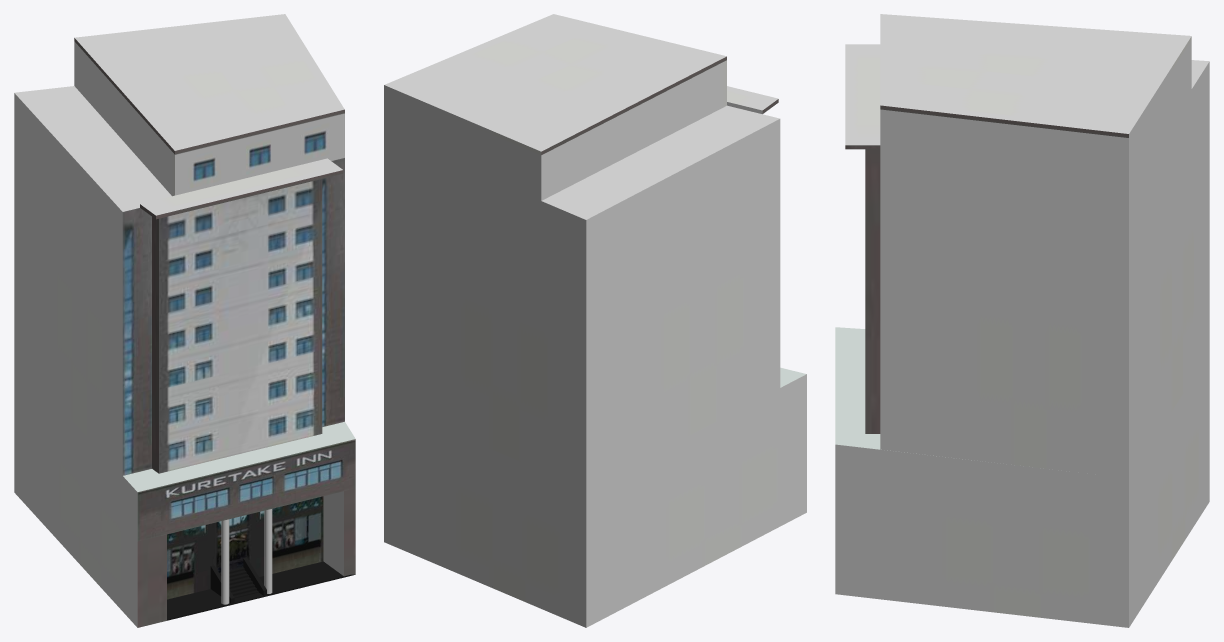
3 views of the same model, side by side, from view 1: azimuth 30°, elevation 25°; view 2: azimuth 150°, elevation 25°; view 3: azimuth 270°, elevation 25° (orthographic). The views are drawn at different scales.
Parts seen in each view (by area): view 1: Kuretake_Inn; view 2: Kuretake_Inn; view 3: Kuretake_Inn.
Part boxes in pixels (<box>): Kuretake_Inn: <box>14,14,355,627</box>; Kuretake_Inn: <box>384,14,806,627</box>; Kuretake_Inn: <box>835,14,1209,627</box>.
Size of the model in its own units: 23.82 by 36.29 by 24.94.
1 material, 1 textured.
